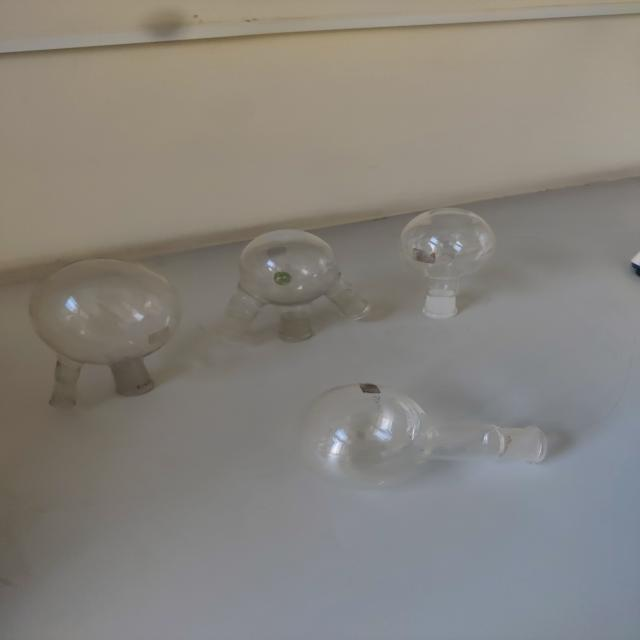Round_Bottom_Flask_Borosilicate_Glass_1_Neck: (278, 363, 602, 498), (393, 199, 522, 339)
Round_Bottom_Flask_Borosilicate_Glass_2_Neck: (24, 242, 196, 417)
Round_Bottom_Flask_Borosilicate_Glass_3_Neck: (214, 218, 389, 354)
